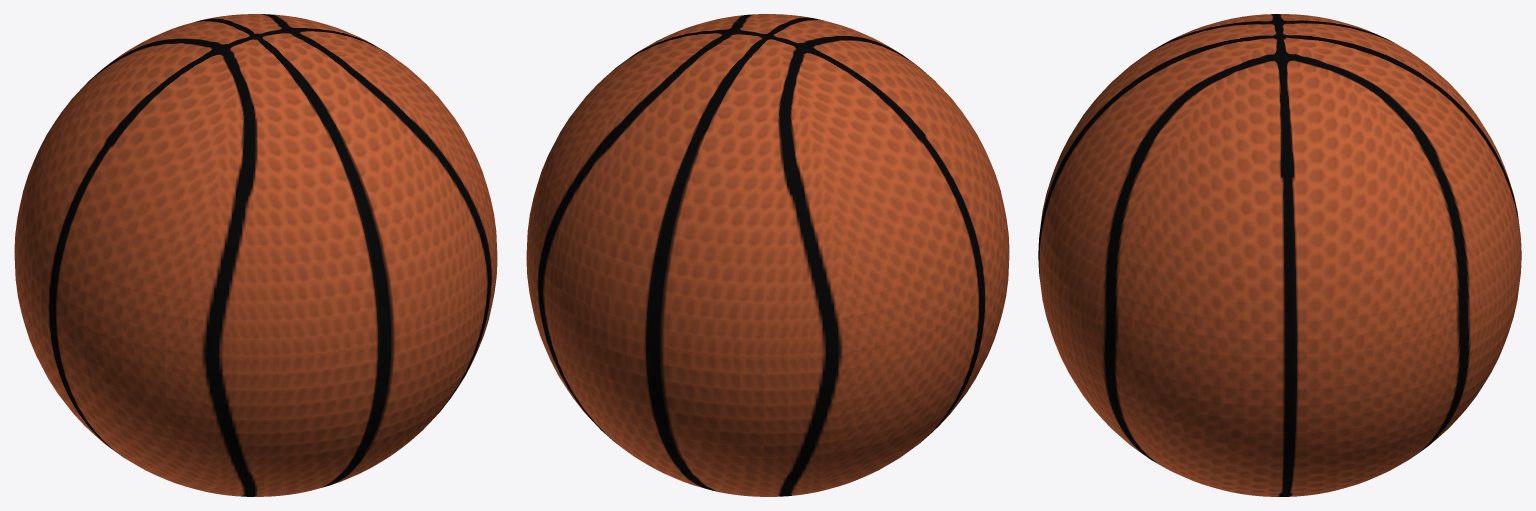
File: basketballGLB.glb
3 renders of one model, left to right at view 1: azimuth 30°, elevation 25°; view 2: azimuth 150°, elevation 25°; view 3: azimuth 270°, elevation 25°, orthographic.
Parts seen in each view (by area): view 1: Sphere; view 2: Sphere; view 3: Sphere.
Part boxes in pixels (box(x1,y1,x2,y2)): Sphere: box(14, 14, 497, 496); Sphere: box(526, 14, 1009, 496); Sphere: box(1038, 14, 1521, 496).
Size of the model in its own units: 0.8988 by 0.9 by 0.9.
1 material, 1 textured.
